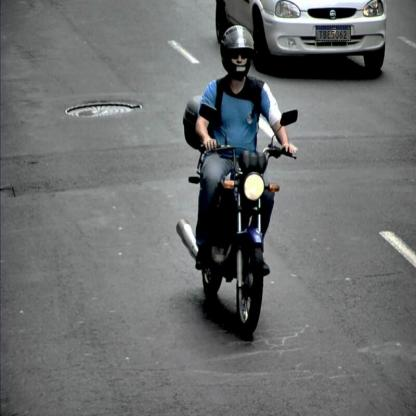PlacaM: (316, 26, 351, 41)
